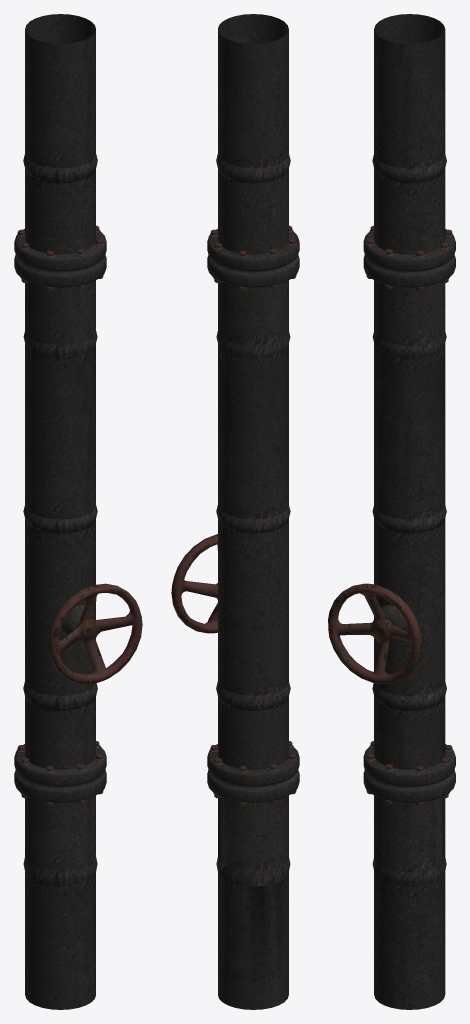
Rendered from pipe_2.glb.
3 views of the same model, side by side, from view 1: azimuth 30°, elevation 25°; view 2: azimuth 210°, elevation 25°; view 3: azimuth 330°, elevation 25° (orthographic).
Visible parts, largest first — view 1: pipe_2, valve_1; view 2: pipe_2, valve_1; view 3: pipe_2, valve_1.
Boxes of the visible parts, box(x1,y1,x2,y2) form: pipe_2: box(14, 14, 106, 1009); valve_1: box(48, 583, 142, 683); pipe_2: box(207, 14, 299, 1009); valve_1: box(171, 534, 217, 633); pipe_2: box(363, 14, 455, 1009); valve_1: box(328, 583, 422, 683).
Size of the model in its own units: 0.2986 by 3 by 0.34.
5 materials, 5 textured.
